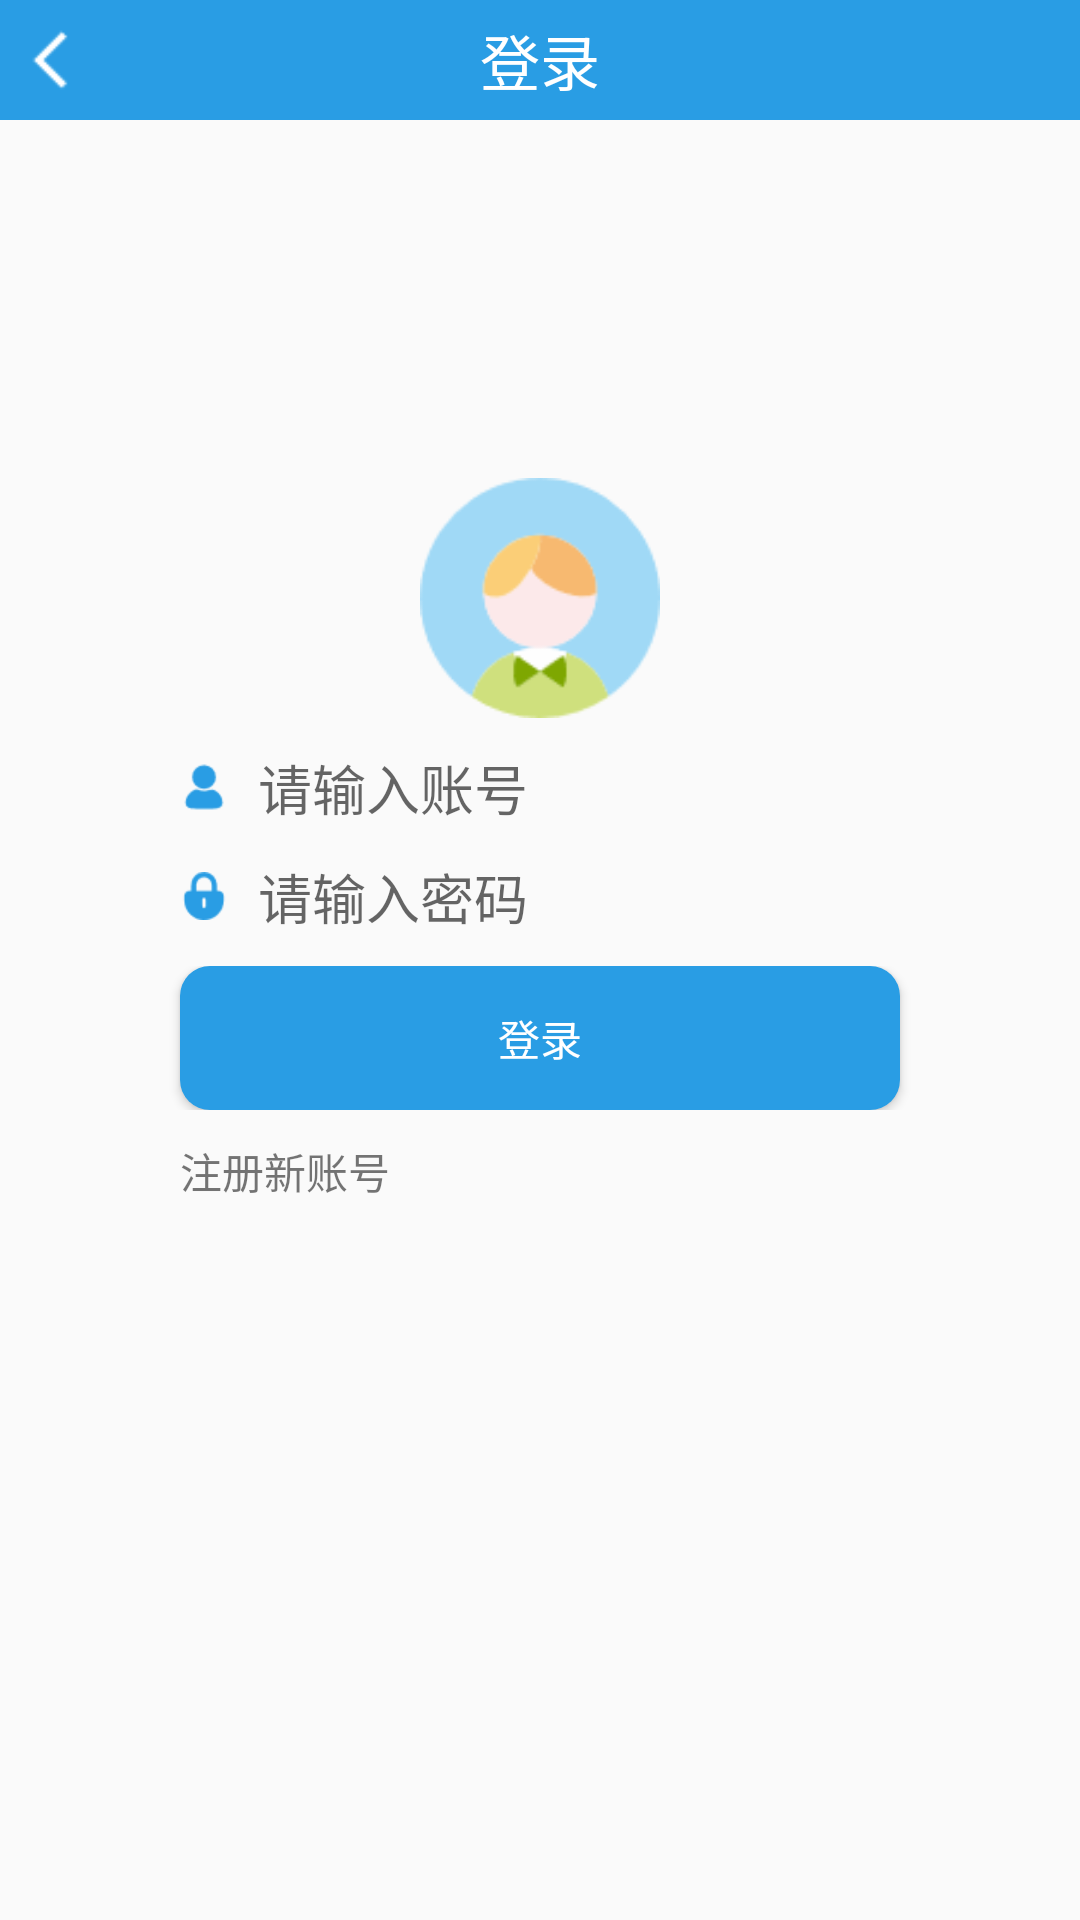

Named icons in this screenshot (1080 x 1920) and their bounding boxes, bbox=[x1, y1, x2, y2]:
exit: bbox=[33, 31, 67, 88]
portrait: bbox=[420, 478, 660, 718]
